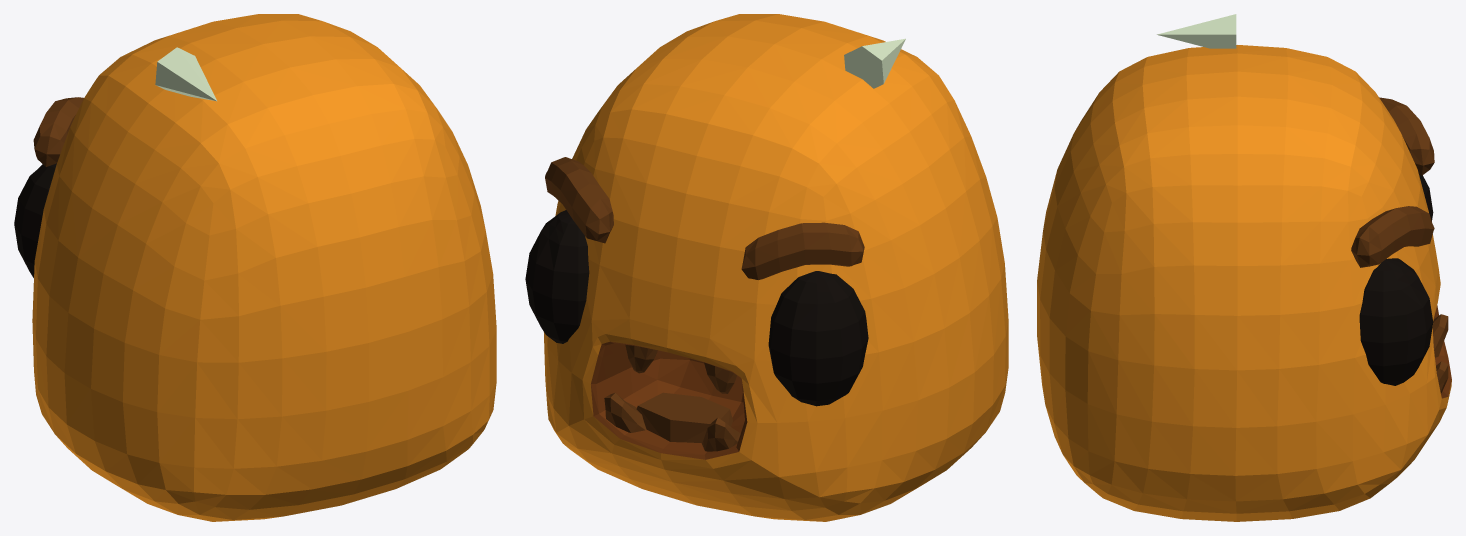
The model's file is slime.glb.
The picture shows the model from 3 angles, left to right: view 1: azimuth 30°, elevation 25°; view 2: azimuth 150°, elevation 25°; view 3: azimuth 270°, elevation 25°; orthographic projection. The views are drawn at different scales.
Visible parts, largest first — view 1: slime_body; view 2: slime_body; view 3: slime_body.
Part boxes in pixels (x1=…): slime_body: x1=14, y1=14, x2=496, y2=521; slime_body: x1=525, y1=14, x2=1008, y2=521; slime_body: x1=1037, y1=14, x2=1451, y2=521.
Bounding box in the file's own units: 0.8276 × 0.9 × 0.7895.
Materials: 1 (1 with a texture image).
